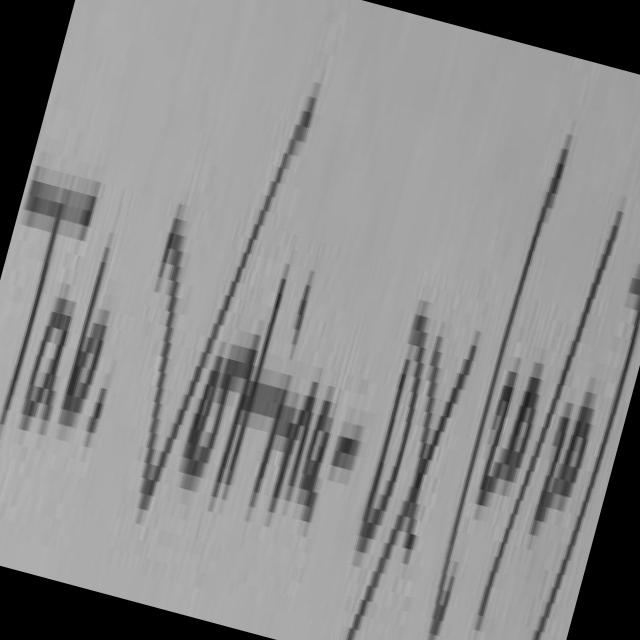0: (507, 364, 543, 475), (563, 392, 589, 490)
2: (532, 404, 573, 523), (479, 367, 514, 499)
D: (365, 314, 421, 546)
T: (4, 172, 95, 417)
V: (139, 105, 314, 508)
X: (347, 336, 479, 640)
a: (23, 297, 73, 436), (301, 389, 335, 515)
b: (60, 234, 108, 436)
e: (183, 352, 225, 481)
i: (246, 410, 282, 517), (290, 272, 309, 352)
n: (270, 383, 318, 509)
r: (198, 335, 259, 501)
t: (220, 281, 285, 510)
